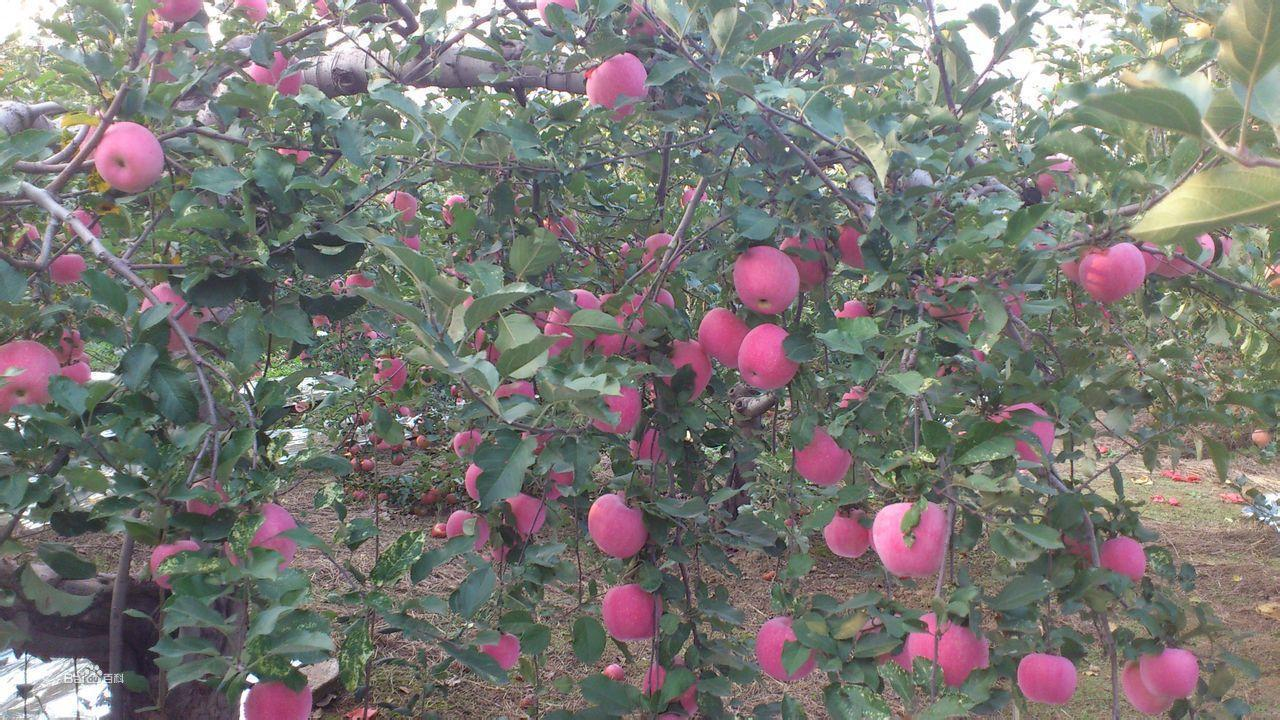apple: (95, 123, 163, 194), (733, 247, 799, 317), (736, 323, 797, 391), (585, 55, 649, 112), (699, 308, 750, 369)
